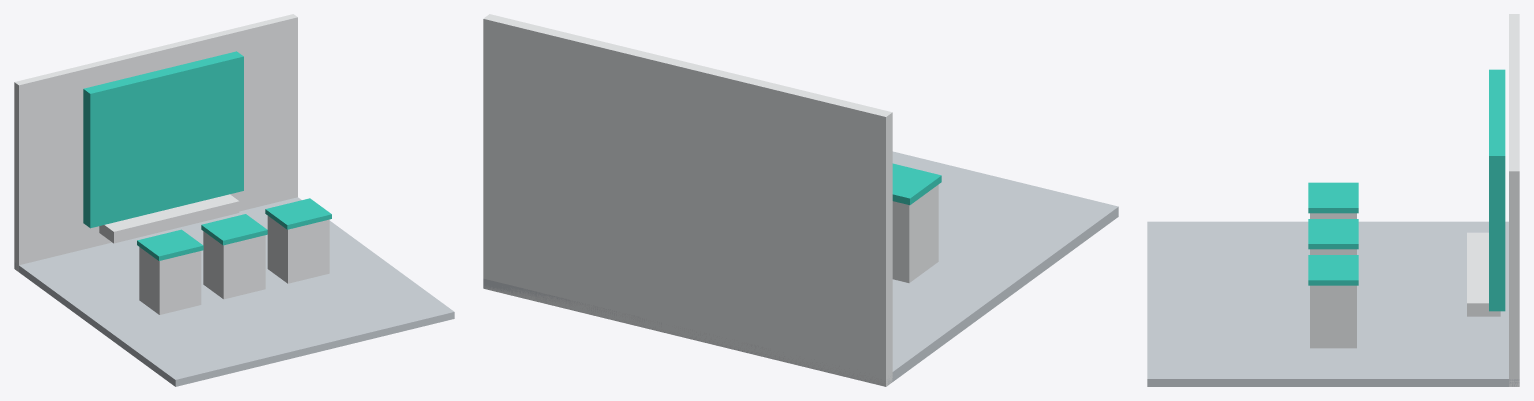
The picture shows the model from 3 angles, left to right: view 1: azimuth 30°, elevation 25°; view 2: azimuth 150°, elevation 25°; view 3: azimuth 270°, elevation 25°; orthographic projection. The views are drawn at different scales.
Parts seen in each view (by area): view 1: Exhibition Booth Concept; view 2: Exhibition Booth Concept; view 3: Exhibition Booth Concept.
Part boxes in pixels (x1,y1,x2,y2): Exhibition Booth Concept: (14,14,454,386); Exhibition Booth Concept: (483,14,1118,386); Exhibition Booth Concept: (1147,14,1519,386).
Size of the model in its own units: 5 by 3.2 by 5.
